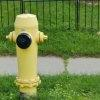a fire hydrant: (16, 12, 40, 94)
